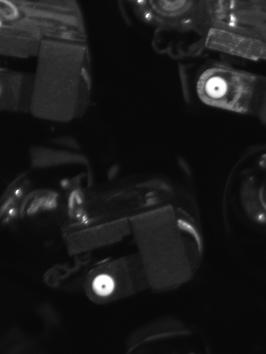fiber: (202, 71, 232, 103), (87, 272, 119, 300)
